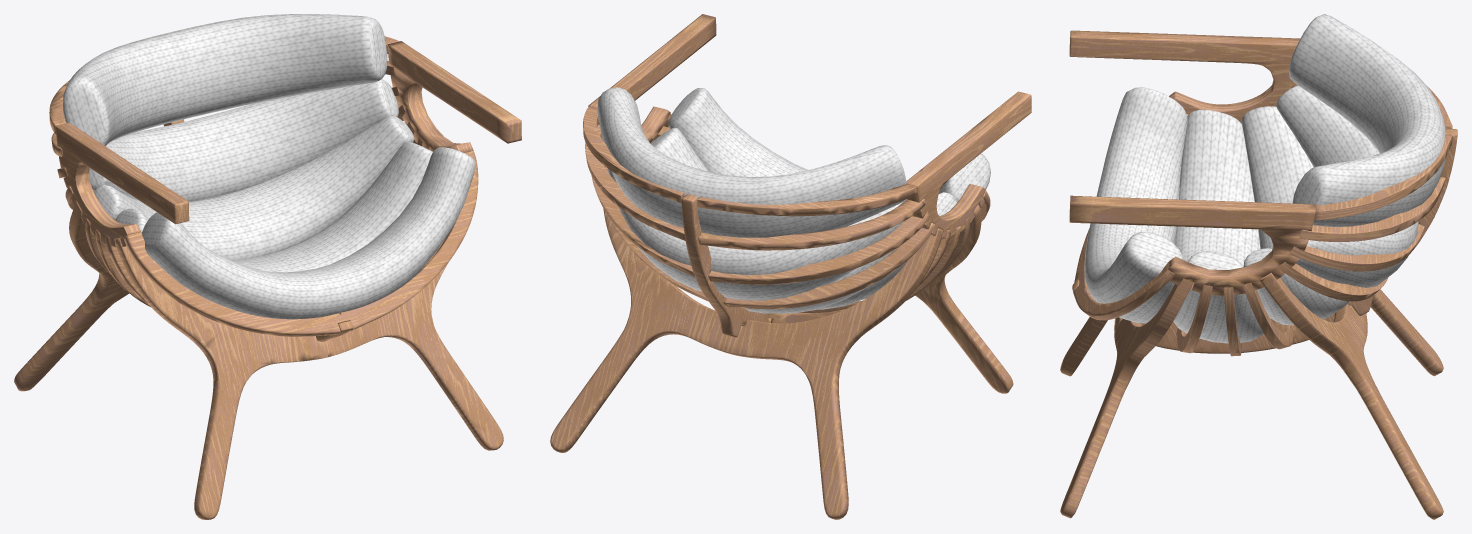
Rendered from armchair_shell_chair_visthe_tique.glb.
3 views of the same model, side by side, from view 1: azimuth 30°, elevation 25°; view 2: azimuth 150°, elevation 25°; view 3: azimuth 270°, elevation 25° (orthographic). The views are drawn at different scales.
Visible parts, largest first — view 1: Chair_Fabric019_0, Chair_Wood050_0; view 2: Chair_Wood050_0, Chair_Fabric019_0; view 3: Chair_Fabric019_0, Chair_Wood050_0.
Part boxes in pixels (box(x1,y1,x2,y2)): Chair_Fabric019_0: box(63, 14, 475, 319); Chair_Wood050_0: box(14, 36, 521, 519); Chair_Wood050_0: box(550, 14, 1031, 519); Chair_Fabric019_0: box(597, 87, 990, 313); Chair_Fabric019_0: box(1084, 14, 1445, 343); Chair_Wood050_0: box(1060, 30, 1457, 519).
Bounding box in the file's own units: 0.8569 × 0.8285 × 0.829.
2 materials, 2 textured.
